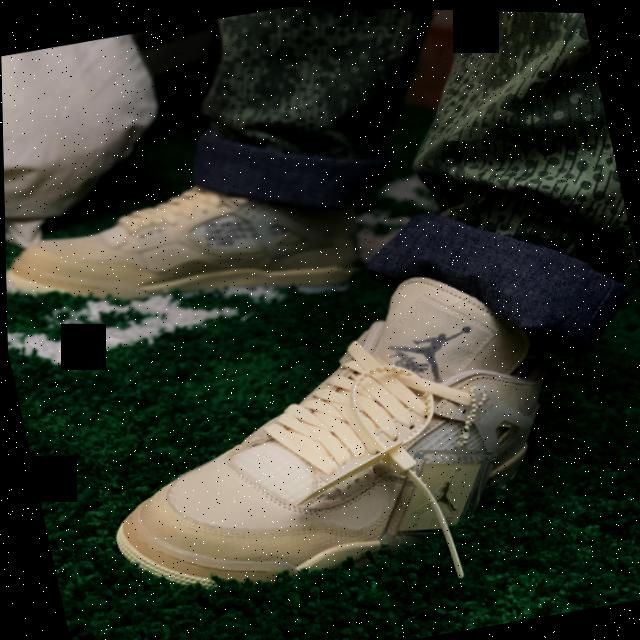shoes: (64, 247, 584, 618), (3, 150, 368, 345)
